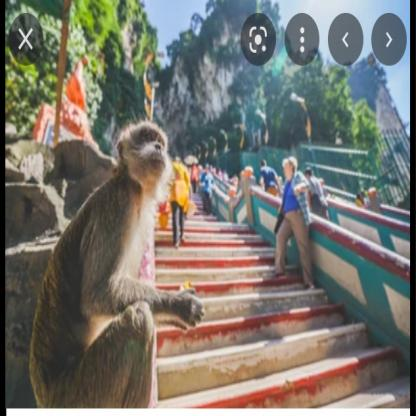monkey: (26, 118, 205, 408)
